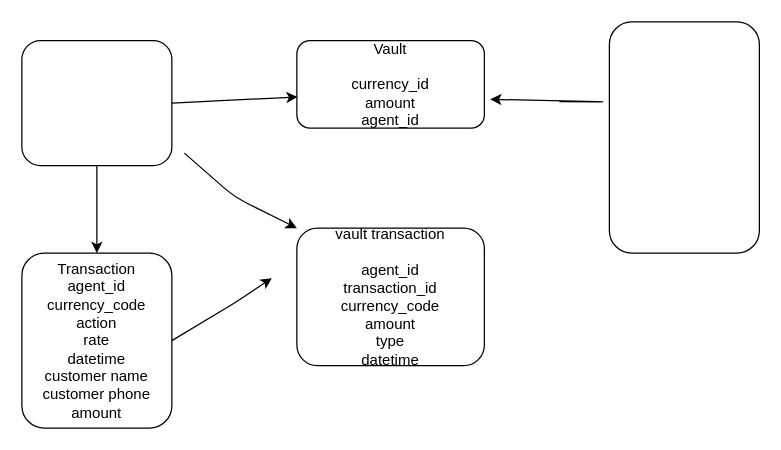
This 781x450 diagram has some shape labels left out. The shapes that lost their labels are listed below. From the top down, each one's centre as x and y in pixels, then its label:
At pixel 96 102: "Agent name username hash_password id".
At pixel 683 137: "Currency pairs currency_code currency buy_rate sell_rate updated_by".
